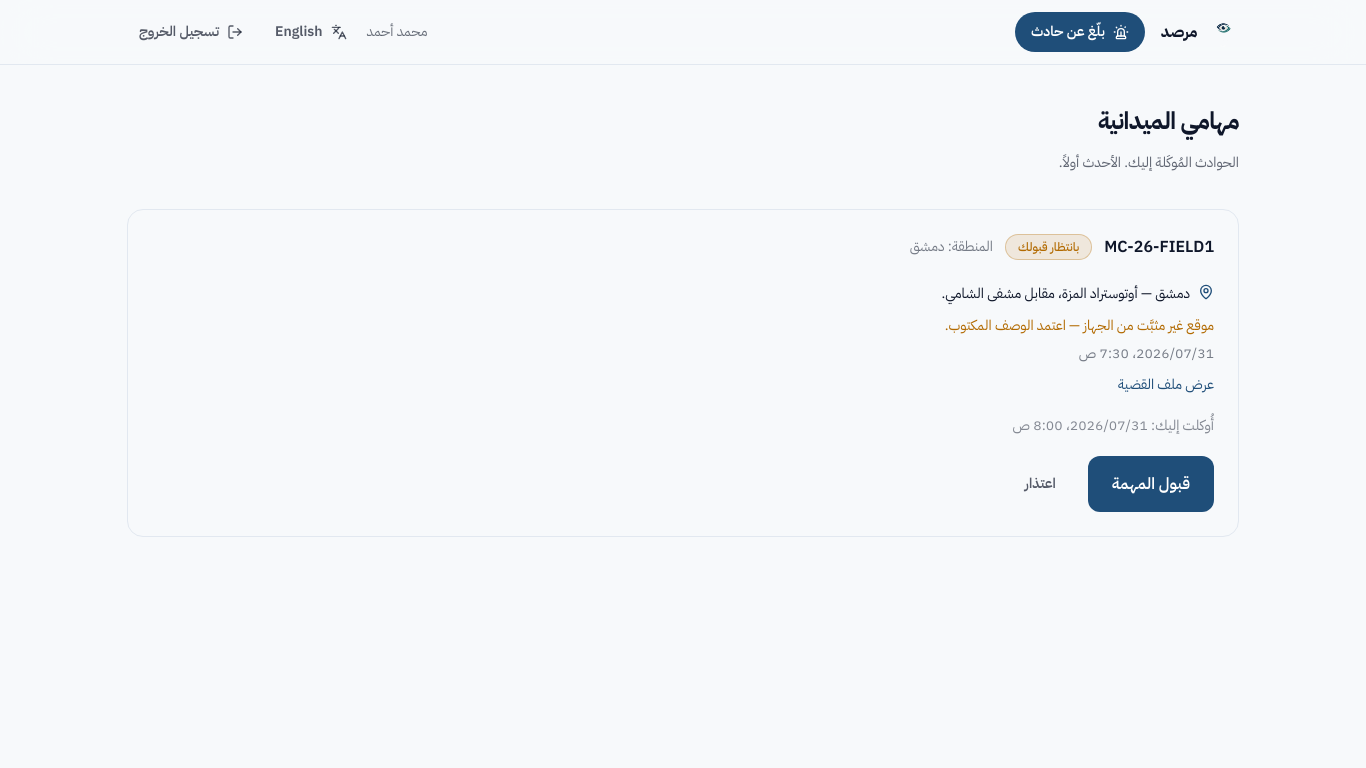
Test: accepting and declining › will not decline without a reason
Click the button "اعتذار".
click(1040, 484)  # box [1005,456,1076,512]
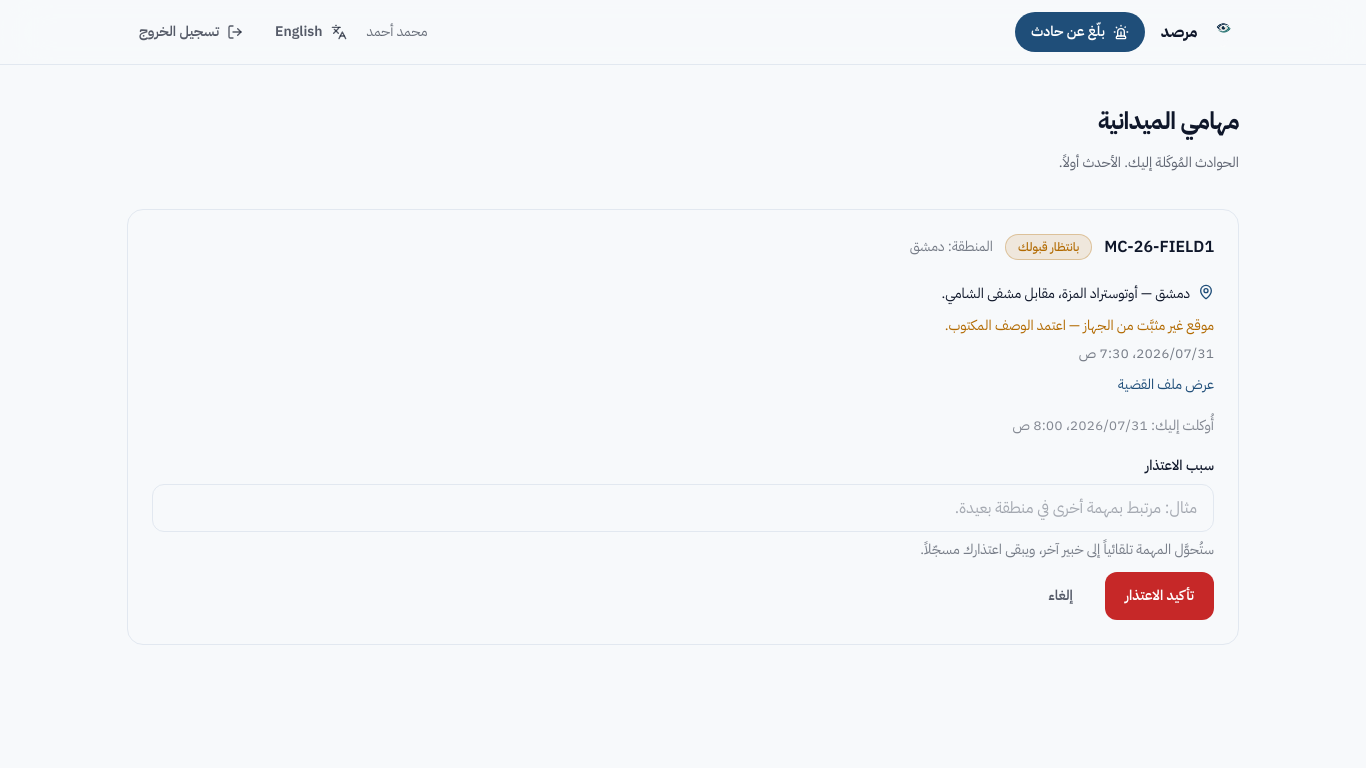
Click the button "تأكيد الاعتذار".
click(1159, 596)  # box [1105,572,1214,620]
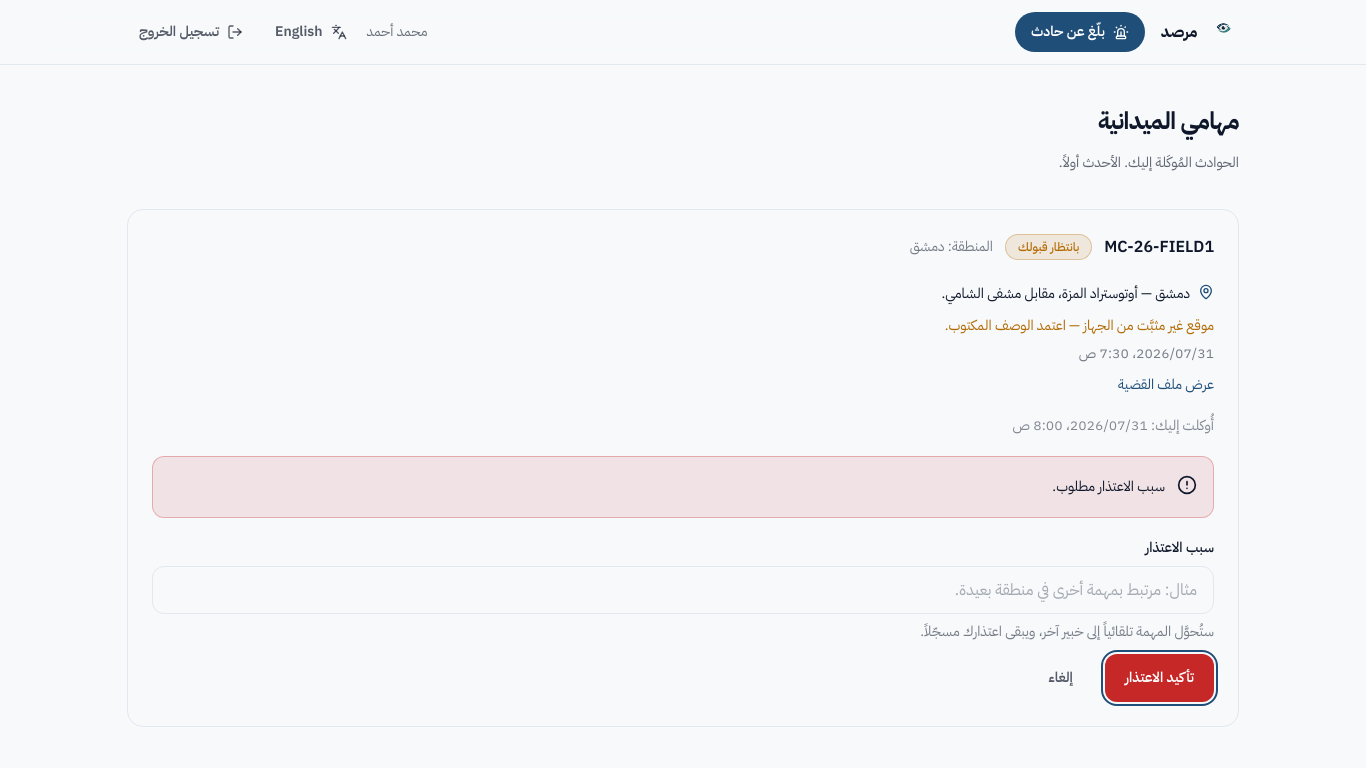
Expected: the text "سبب الاعتذار مطلوب." is shown, [1052,473,1165,501]
